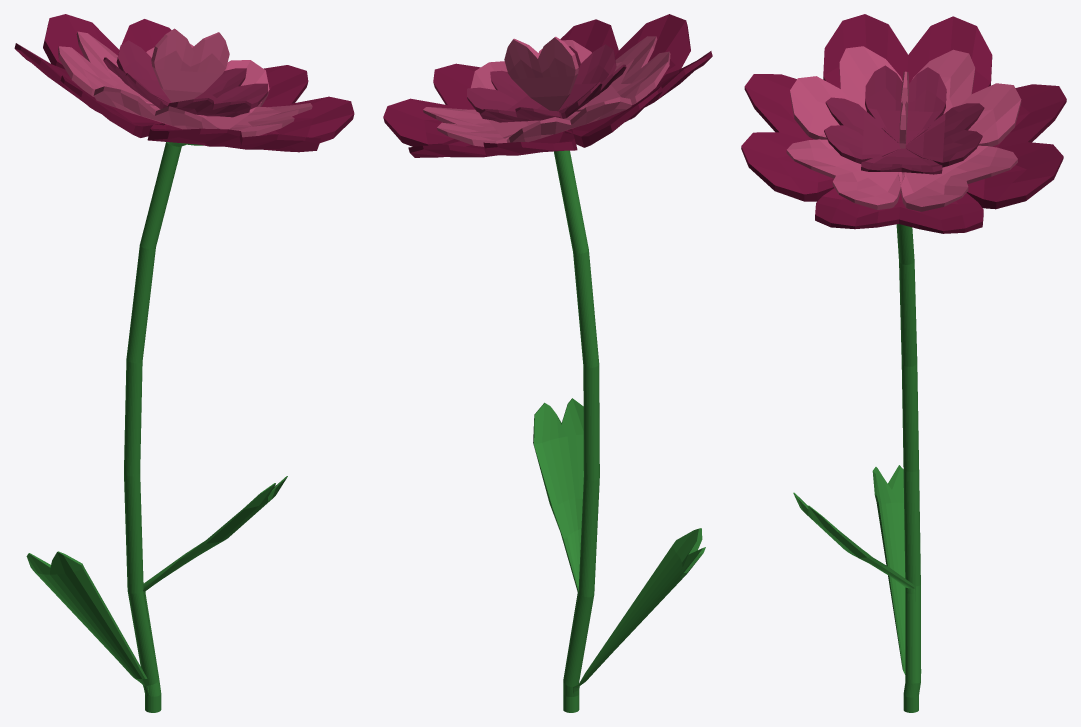
File: heartFlower.fbx
The picture shows the model from 3 angles, left to right: view 1: azimuth 30°, elevation 25°; view 2: azimuth 150°, elevation 25°; view 3: azimuth 270°, elevation 25°; orthographic projection. The views are drawn at different scales.
Visible parts, largest first — view 1: Sphere, upper, top; view 2: Sphere, upper, top; view 3: upper, top, Sphere.
Boxes of the visible parts, box(x1,y1,x2,y2) form: Sphere: box(26, 142, 287, 712); upper: box(14, 14, 354, 152); top: box(58, 28, 312, 137); Sphere: box(533, 150, 705, 712); upper: box(383, 14, 712, 157); top: box(423, 36, 670, 146); upper: box(741, 14, 1066, 233); top: box(786, 46, 1021, 211); Sphere: box(793, 224, 921, 712).
Bounding box in the file's own units: 407 × 874 × 399.
